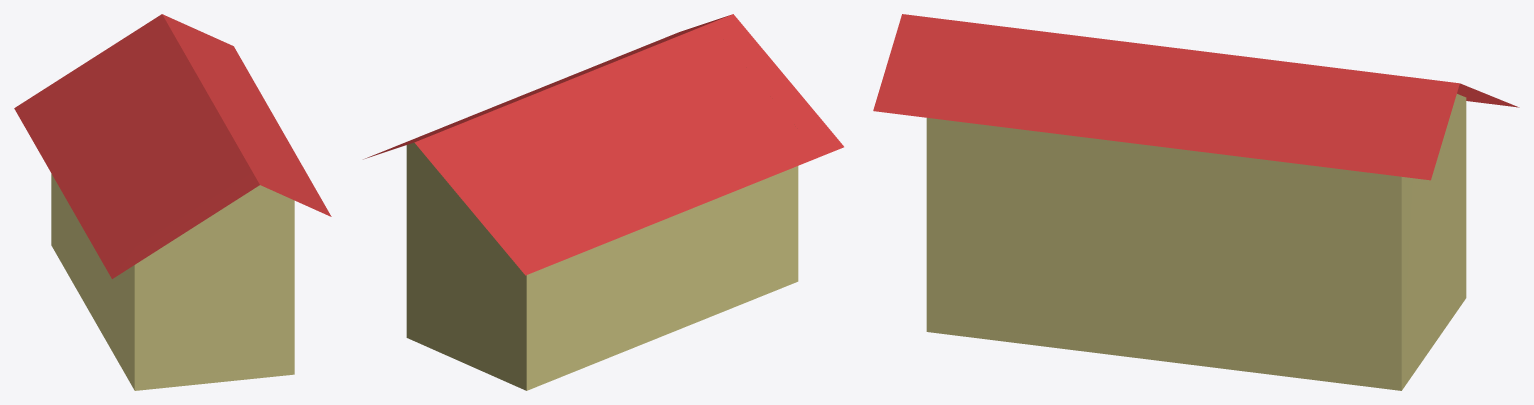
3 views of the same model, side by side, from view 1: azimuth 30°, elevation 25°; view 2: azimuth 150°, elevation 25°; view 3: azimuth 270°, elevation 25° (orthographic). The views are drawn at different scales.
Size of the model in its own units: 10.85 by 15.03 by 7.39.
